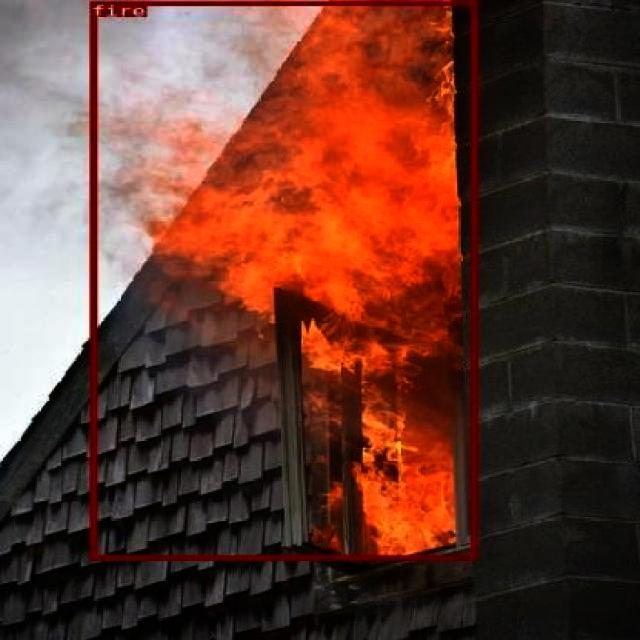fire: (89, 1, 476, 560)
